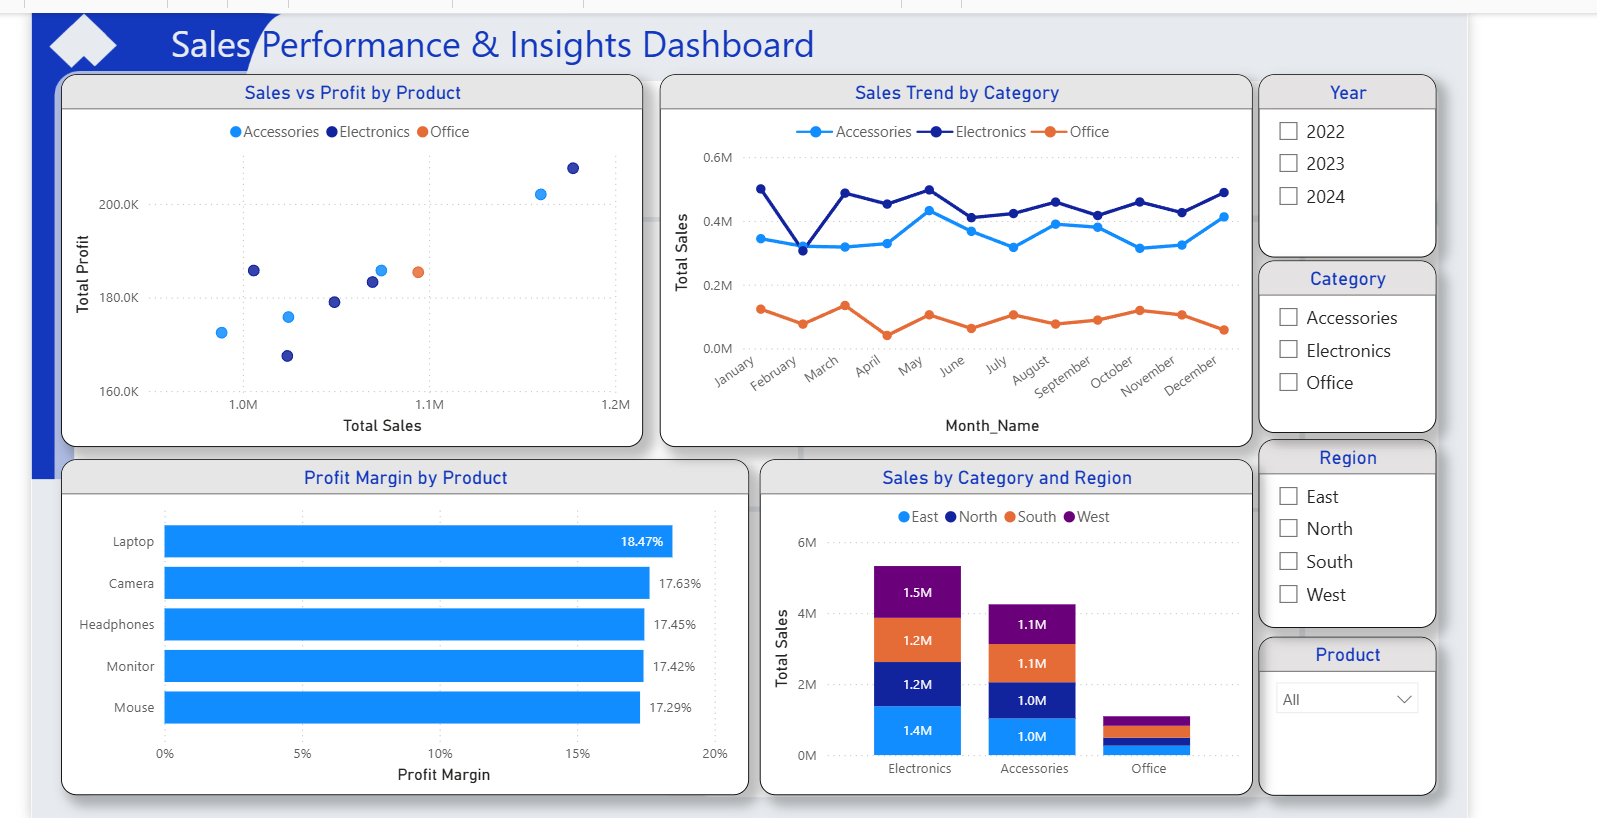

The dashboard page shown, as its layout file describes it:
{"tool":"powerbi","page":{"name":"Analysis","canvas":[1280,720],"ordinal":1},"visuals":[{"type":"textbox","box":[108.8,0,102.5,55],"z":0},{"type":"textbox","box":[166.2,0,571.2,55],"z":1000},{"type":"scatterChart","title":"Sales vs Profit by Product","fields":{"X":["clean_ecommerce_sales.Total Sales"],"Y":["clean_ecommerce_sales.Total Profit"],"Category":["clean_ecommerce_sales.Product_Name"],"Series":["clean_ecommerce_sales.Category"]},"box":[26.7,55,518.3,331.7],"z":2000},{"type":"clusteredBarChart","title":"Profit Margin by Product","fields":{"Category":["clean_ecommerce_sales.Product_Name"],"Y":["clean_ecommerce_sales.Profit Margin"]},"box":[26.5,396.9,612.9,299.2],"z":3000},{"type":"lineChart","title":"Sales Trend by Category","fields":{"Category":["clean_ecommerce_sales.Month_Name"],"Y":["clean_ecommerce_sales.Total Sales"],"Series":["clean_ecommerce_sales.Category"]},"box":[560,55,528.3,331.7],"z":4000},{"type":"slicer","title":"Year","fields":{"Values":["clean_ecommerce_sales.Year"]},"box":[1093.3,55,158.3,163.3],"z":5000},{"type":"slicer","title":"Product","fields":{"Values":["clean_ecommerce_sales.Product_Name"]},"box":[1093.3,555,158.3,141.7],"z":6000},{"type":"slicer","title":"Region","fields":{"Values":["clean_ecommerce_sales.Region"]},"box":[1093.3,380,158.3,168.3],"z":7000},{"type":"slicer","title":"Category","fields":{"Values":["clean_ecommerce_sales.Category"]},"box":[1093.3,220,158.3,153.3],"z":8000},{"type":"columnChart","title":"Sales by Category and Region","fields":{"Category":["clean_ecommerce_sales.Category"],"Y":["clean_ecommerce_sales.Total Sales"],"Series":["clean_ecommerce_sales.Region"]},"box":[649.1,396.9,439.1,299.2],"z":9000}]}

Visuals, with their boxes in screenshot pixels (x1, y1, x2, y2):
textbox: 147, 8, 262, 70
textbox: 211, 8, 852, 70
"Sales vs Profit by Product" scatterChart: 55, 70, 637, 442
"Profit Margin by Product" clusteredBarChart: 55, 454, 742, 789
"Sales Trend by Category" lineChart: 653, 70, 1246, 442
"Year" slicer: 1252, 70, 1429, 253
"Product" slicer: 1252, 631, 1429, 790
"Region" slicer: 1252, 435, 1429, 624
"Category" slicer: 1252, 255, 1429, 427
"Sales by Category and Region" columnChart: 753, 454, 1246, 789
